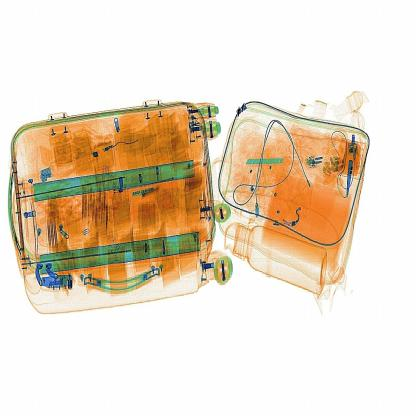pliers: (247, 148, 302, 176)
